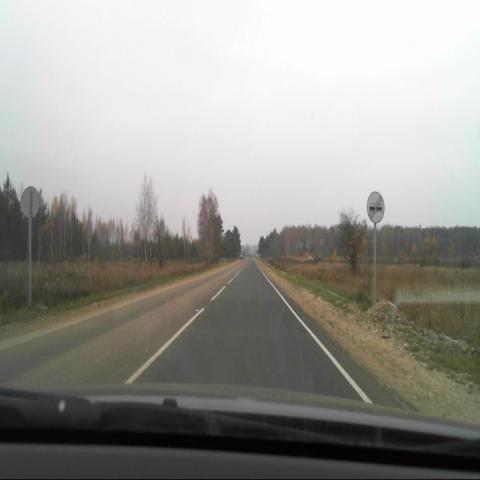3_21: (366, 190, 386, 223)
